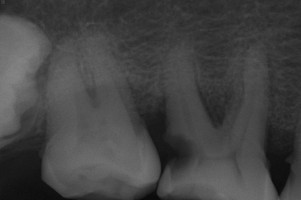Endo-Periodontal Lesion: (84, 86, 98, 107)
